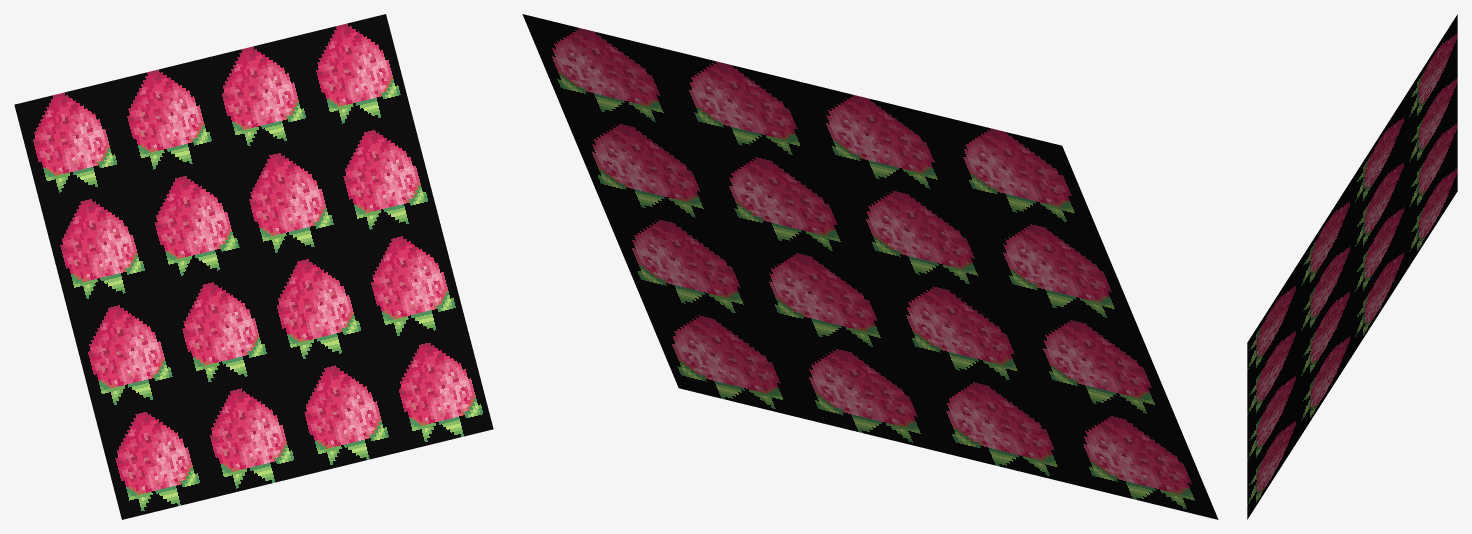
File: 0604mi_str.gltf
3 renders of one model, left to right at view 1: azimuth 30°, elevation 25°; view 2: azimuth 150°, elevation 25°; view 3: azimuth 270°, elevation 25°, orthographic. The views are drawn at different scales.
Parts seen in each view (by area): view 1: 0604mi_str; view 2: 0604mi_str; view 3: 0604mi_str.
Part boxes in pixels (box(x1,y1,x2,y2)): 0604mi_str: box(14, 14, 493, 519); 0604mi_str: box(522, 14, 1218, 519); 0604mi_str: box(1247, 14, 1457, 519).
Size of the model in its own units: 0.4395 by 0.3801 by 0.2205.
1 material, 1 textured.
